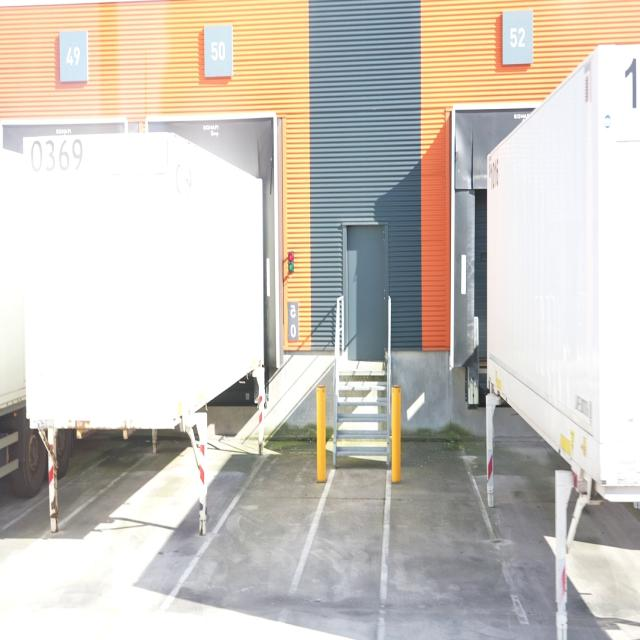Code: (28, 134, 86, 177)
